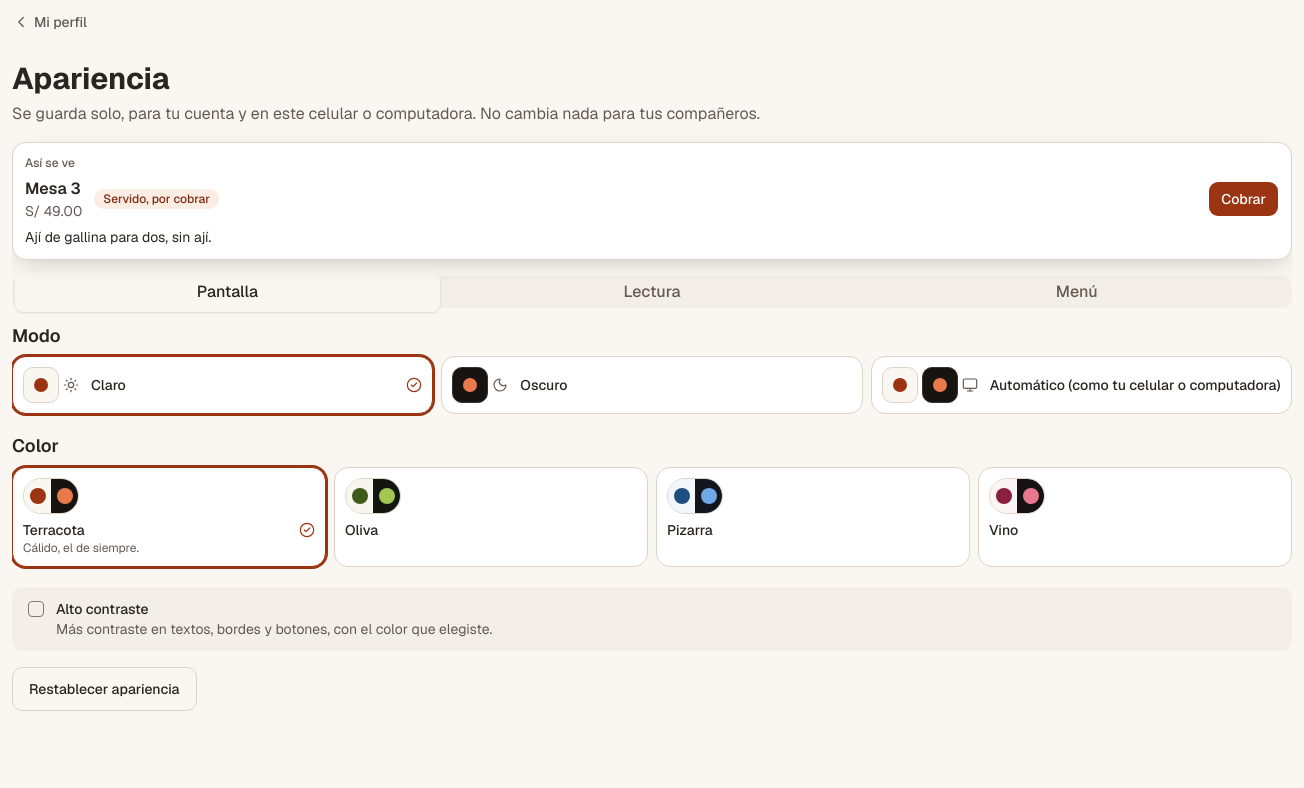
Test: AppearanceView: pestaña Lectura › hay un solo control de tamaño de texto y un acceso a los demás ajustes de accesibilidad
Click the tab "Lectura" at (652, 292), box [440,272,864,312]
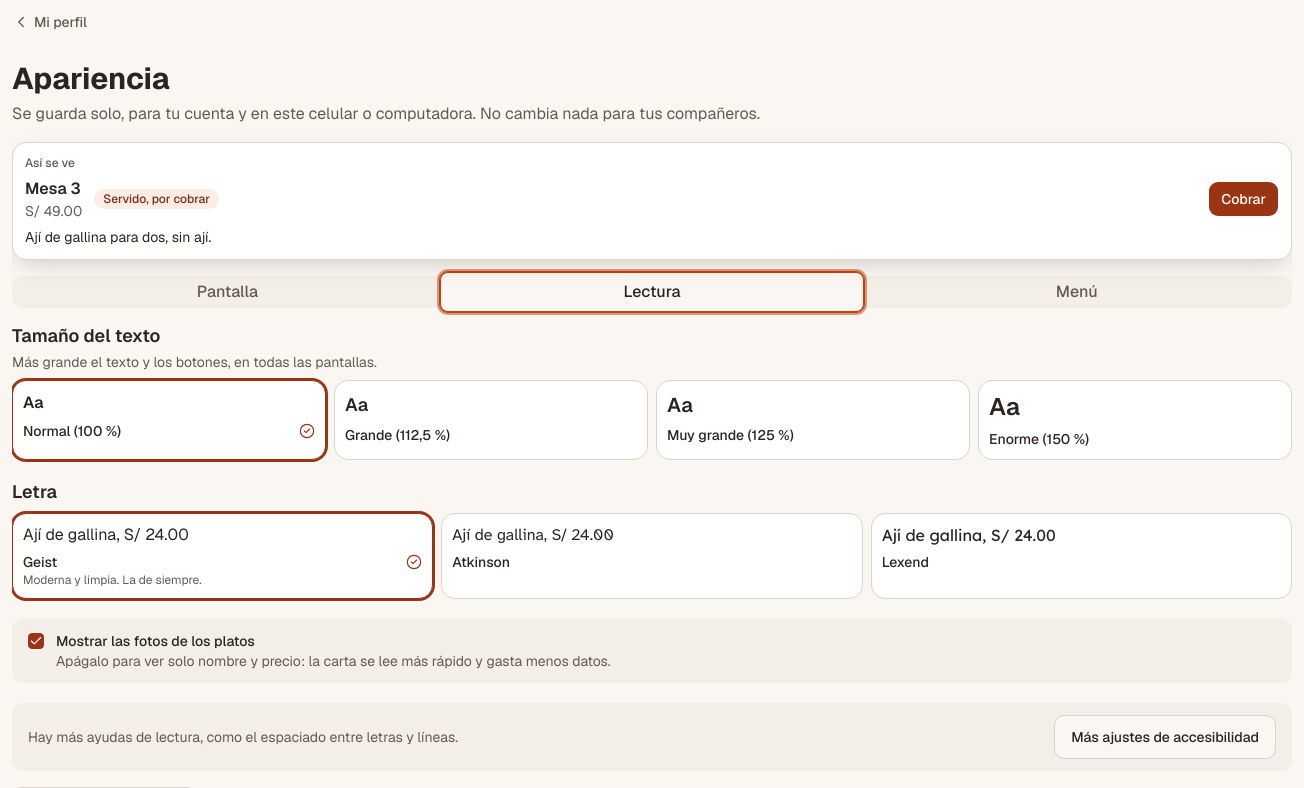
Expected: the number of elements named "Tamaño del texto" is 1, [12,380,1292,460]
Expected: the button "Más ajustes de accesibilidad" is shown, [1054,715,1276,759]
